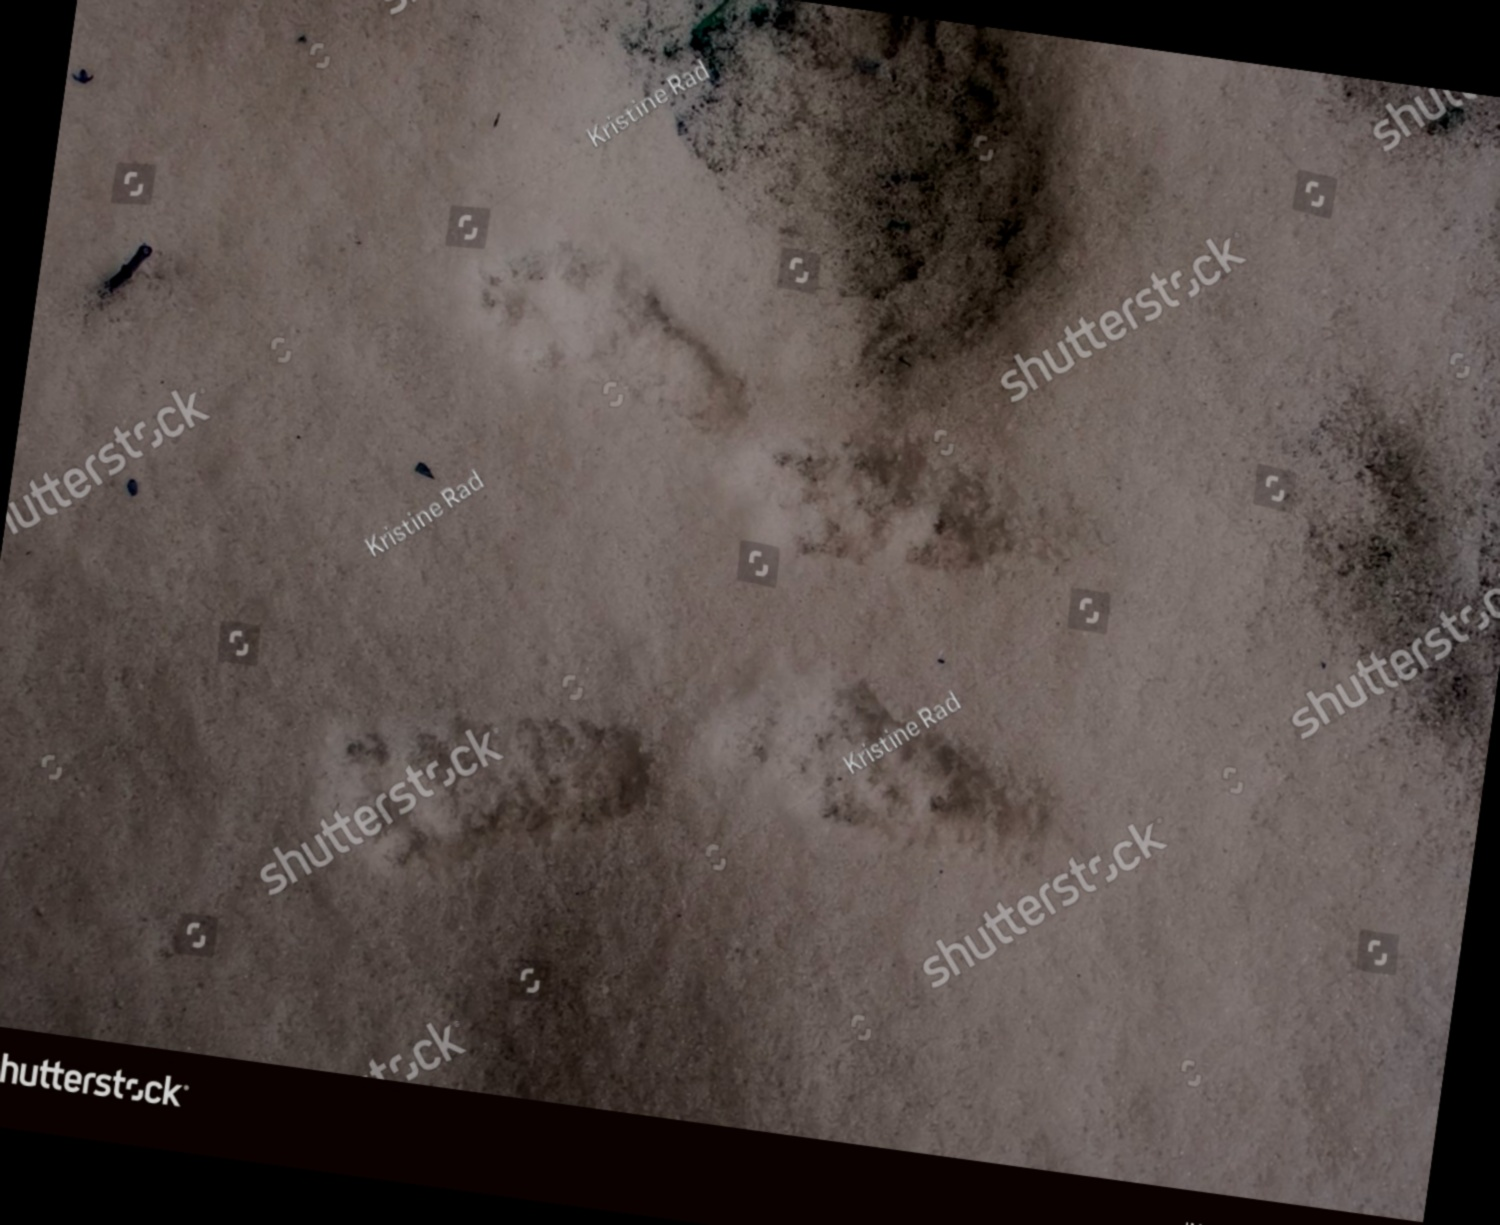ecureuil: (284, 651, 706, 921), (429, 189, 782, 456), (708, 646, 1084, 894), (745, 393, 1093, 612)
